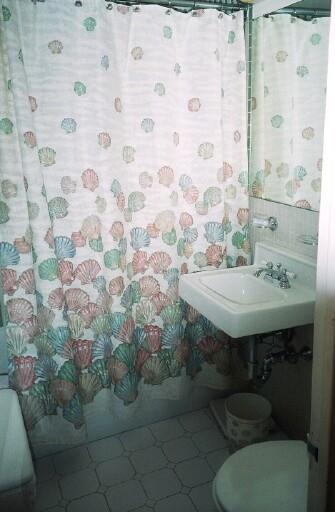Bote de Basura: (221, 387, 277, 437)
Ducha: (0, 18, 244, 399)
Lavamanos: (175, 247, 315, 347)
Sanitario: (210, 430, 306, 508)
